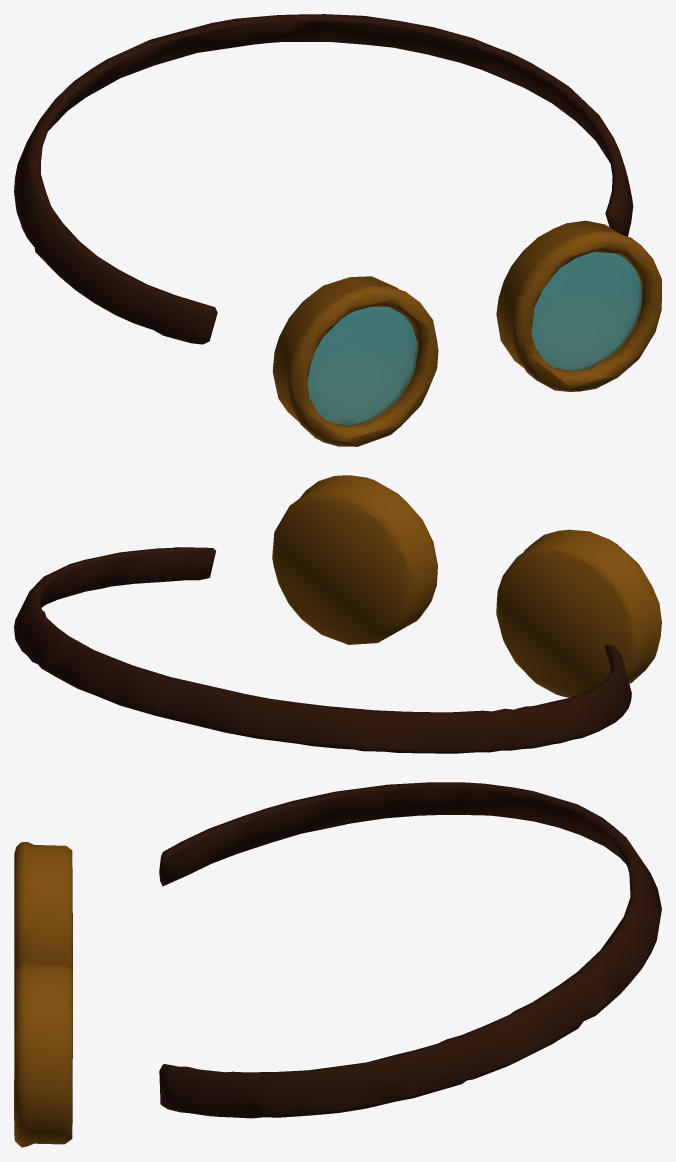
File: kinhphicong.glb
3 renders of one model, top to bottom at view 1: azimuth 30°, elevation 25°; view 2: azimuth 150°, elevation 25°; view 3: azimuth 270°, elevation 25°, orthographic. The views are drawn at different scales.
Parts seen in each view (by area): view 1: Coc_Kinh, Day_Da, Kinh_PC; view 2: Coc_Kinh, Day_Da; view 3: Day_Da, Coc_Kinh.
Boxes of the visible parts, box(x1,y1,x2,y2) form: Coc_Kinh: box(272, 220, 661, 446); Day_Da: box(14, 14, 633, 344); Kinh_PC: box(307, 252, 641, 426); Coc_Kinh: box(272, 475, 661, 697); Day_Da: box(14, 547, 631, 753); Day_Da: box(159, 782, 661, 1118); Coc_Kinh: box(14, 842, 72, 1147).
Size of the model in its own units: 0.2602 by 0.0823 by 0.2443.
